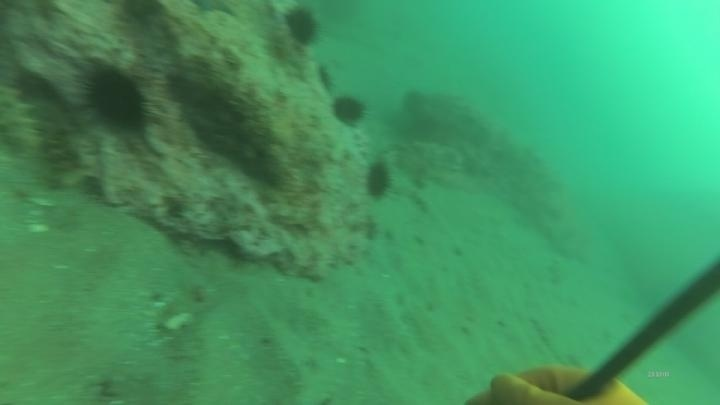echinus: (76, 60, 156, 137), (281, 5, 323, 49), (361, 158, 395, 203), (329, 92, 369, 129)
holothurian: (32, 99, 97, 192), (0, 80, 45, 156)
starfish: (189, 0, 239, 20)
